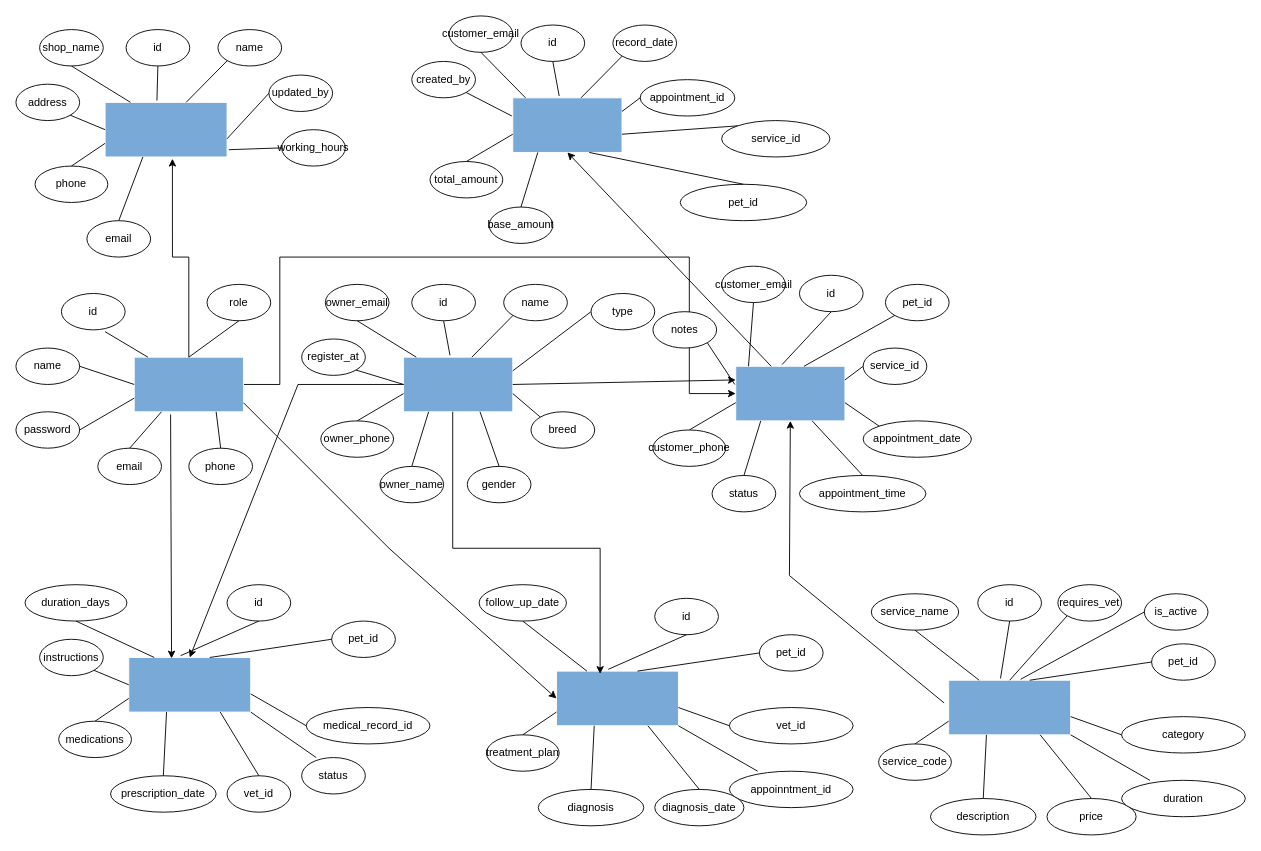
Image size: 1261x851. Some labels were removed from this diagram. The shapes that lost their labels are listed below. From the top down, each one's box as (x1, y1, x2, y2) in pixels, then its label:
(104, 101, 227, 157): Shop_Information
(512, 97, 622, 152): Revenue_Records
(133, 356, 243, 412): Users
(403, 356, 513, 412): Pets
(735, 365, 845, 421): Appointments
(128, 657, 251, 712): Prescription
(556, 670, 678, 726): Medical_Records
(948, 679, 1071, 735): Services
